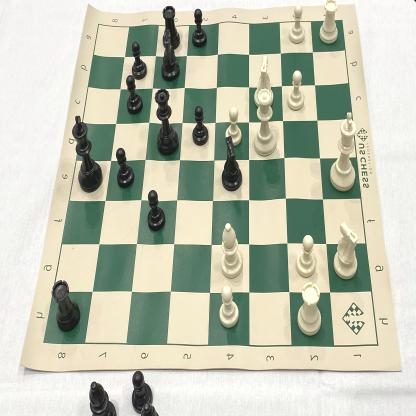black-king: (72, 111, 102, 194)
black-knight: (217, 135, 245, 193), (162, 29, 180, 82)
black-pawn: (114, 145, 136, 191), (146, 188, 166, 233), (124, 73, 144, 116), (190, 105, 210, 148), (190, 5, 209, 49), (131, 39, 149, 79)
black-queen: (153, 86, 180, 160)
black-rook: (51, 274, 82, 334), (160, 5, 181, 52)
white-bishop: (218, 221, 246, 280)
white-king: (328, 110, 360, 193)
white-knight: (330, 218, 364, 282), (252, 53, 275, 110)
white-pawn: (217, 282, 243, 332), (284, 68, 308, 112), (295, 232, 317, 279), (224, 101, 244, 147), (287, 5, 308, 46)
white-queen: (250, 88, 277, 158)
white-rook: (296, 280, 326, 338), (318, 0, 342, 46)
